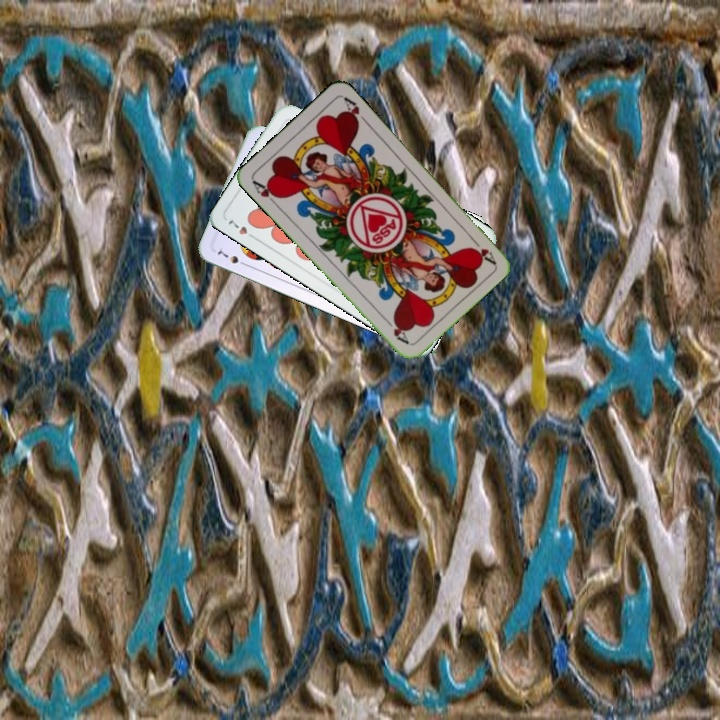H7: (224, 216, 260, 242)
HA: (248, 177, 283, 209), (466, 232, 497, 266)
S7: (213, 244, 250, 269)
